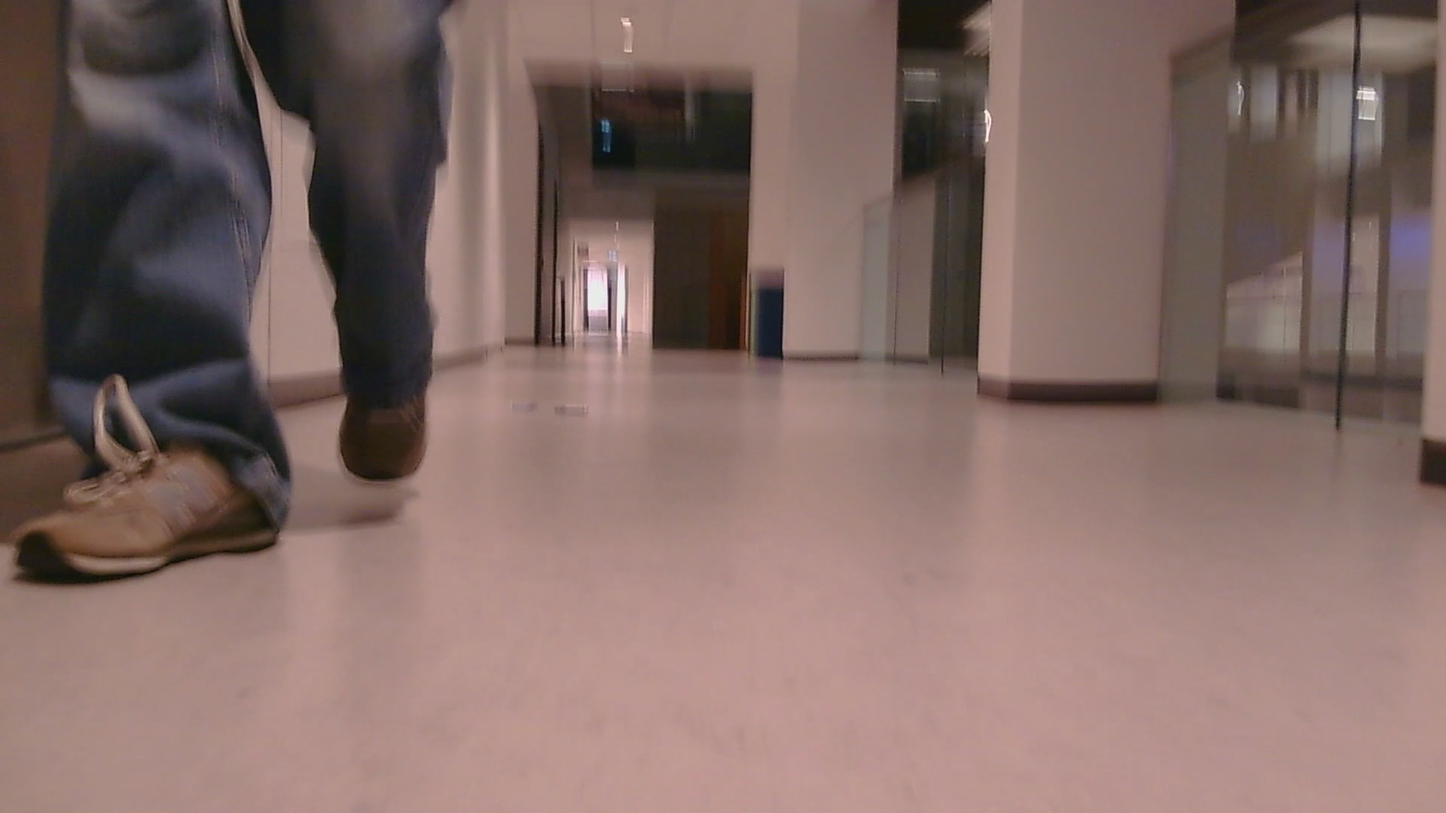carton: (557, 403, 597, 418), (511, 400, 537, 415)
